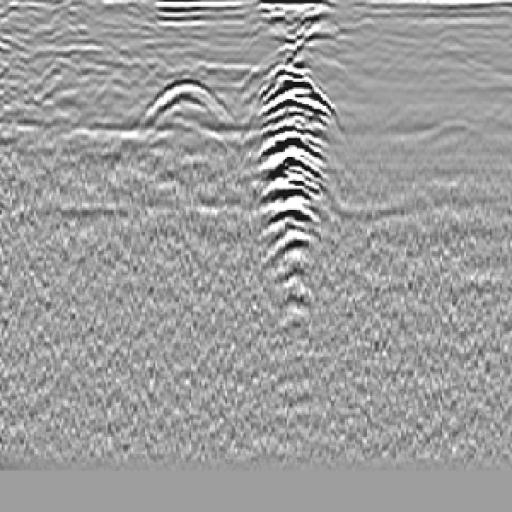metalic: (254, 32, 334, 308)
nonmetalic: (144, 63, 238, 149)
